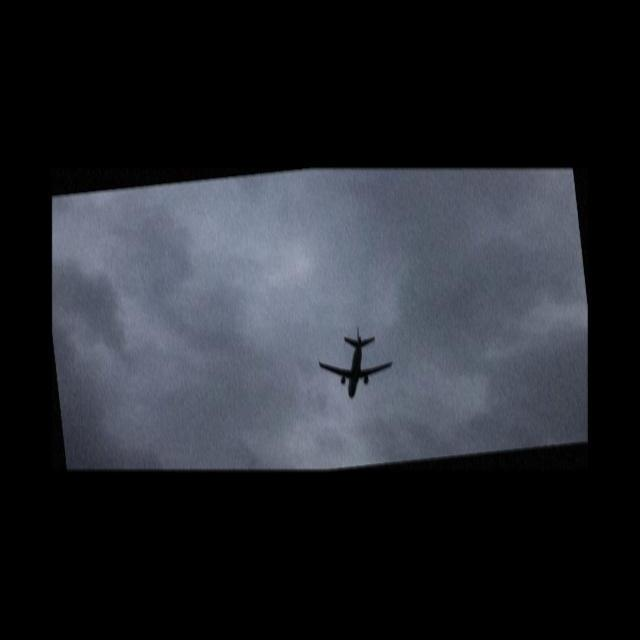airplane: (310, 320, 402, 406)
